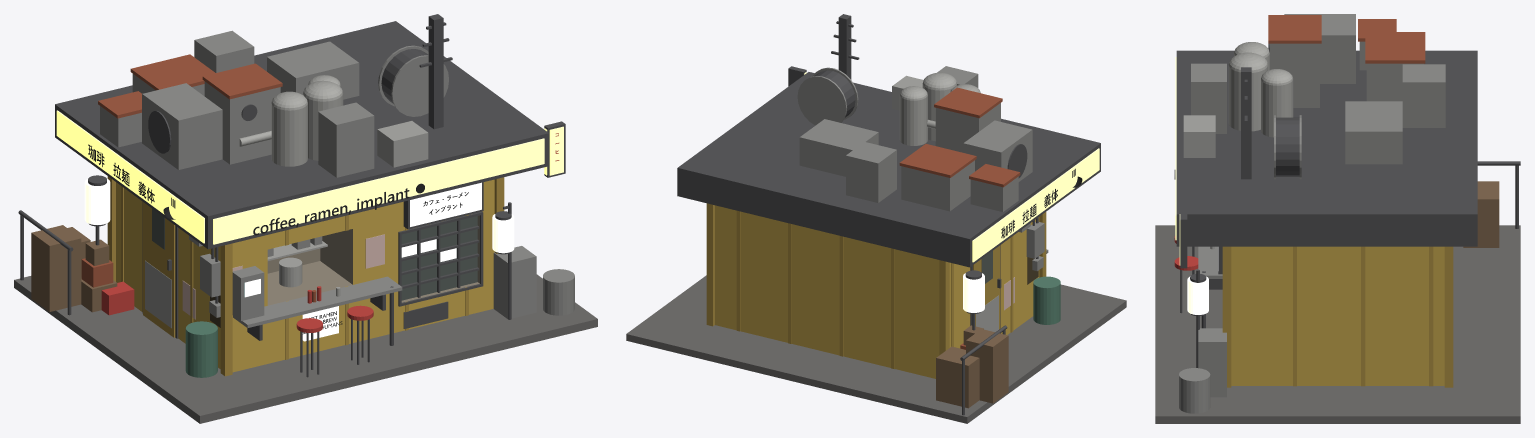
File: kiosk_blockout.glb
The picture shows the model from 3 angles, left to right: view 1: azimuth 30°, elevation 25°; view 2: azimuth 150°, elevation 25°; view 3: azimuth 270°, elevation 25°; orthographic projection. The views are drawn at different scales.
Visible parts, largest first — view 1: SM_Kiosk_Canopy, SM_Kiosk_Roof, SM_Kiosk_Body, SM_Kiosk_Ground, SM_Kiosk_Props, SM_Kiosk_ServiceSide, SM_Kiosk_DoorSide; view 2: SM_Kiosk_Body, SM_Kiosk_Canopy, SM_Kiosk_Roof, SM_Kiosk_Ground, SM_Kiosk_Props, SM_Kiosk_DoorSide; view 3: SM_Kiosk_Canopy, SM_Kiosk_Body, SM_Kiosk_Ground, SM_Kiosk_Roof, SM_Kiosk_Props, SM_Kiosk_ServiceSide.
Part boxes in pixels (<box>): SM_Kiosk_Canopy: <box>55,21,565,249</box>; SM_Kiosk_Roof: <box>98,14,452,177</box>; SM_Kiosk_Body: <box>107,176,504,376</box>; SM_Kiosk_Ground: <box>14,274,597,423</box>; SM_Kiosk_Props: <box>18,175,574,377</box>; SM_Kiosk_ServiceSide: <box>232,182,483,345</box>; SM_Kiosk_DoorSide: <box>142,202,220,338</box>; SM_Kiosk_Body: <box>706,203,1046,378</box>; SM_Kiosk_Canopy: <box>677,66,1100,267</box>; SM_Kiosk_Roof: <box>797,14,1032,211</box>; SM_Kiosk_Ground: <box>626,275,1126,423</box>; SM_Kiosk_Props: <box>936,270,1060,415</box>; SM_Kiosk_DoorSide: <box>970,217,1044,333</box>; SM_Kiosk_Canopy: <box>1174,50,1477,268</box>; SM_Kiosk_Body: <box>1222,246,1453,387</box>; SM_Kiosk_Ground: <box>1155,225,1520,423</box>; SM_Kiosk_Roof: <box>1183,14,1445,179</box>; SM_Kiosk_Props: <box>1174,161,1520,413</box>; SM_Kiosk_ServiceSide: <box>1198,246,1222,328</box>.
Size of the model in its own units: 6.4 by 4.6 by 5.1.
